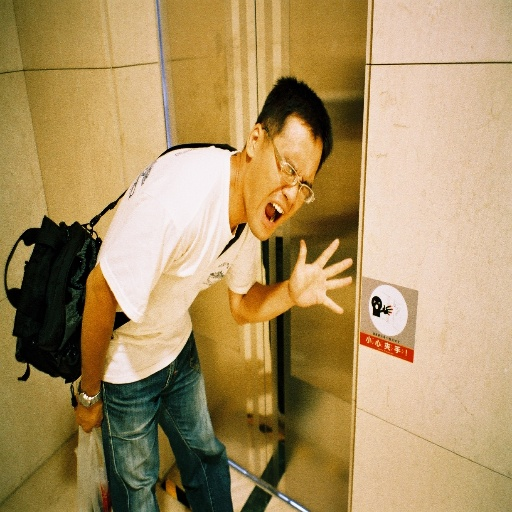hand: (274, 236, 350, 319), (71, 389, 104, 436)
